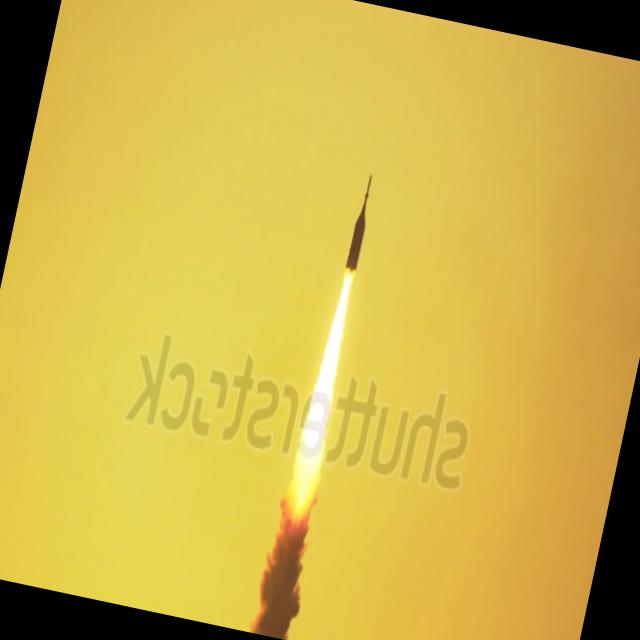rocket: (292, 174, 382, 494)
